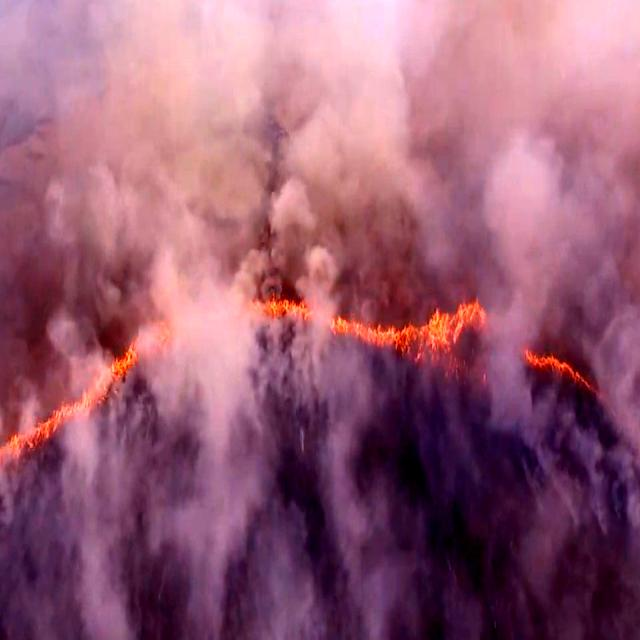fire: (394, 285, 488, 364), (101, 338, 135, 389)
smoke: (269, 164, 437, 640), (155, 0, 383, 265), (421, 0, 640, 275), (0, 0, 103, 468), (194, 334, 346, 640)
